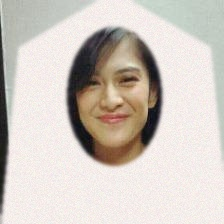Mukena: (3, 18, 224, 224)
